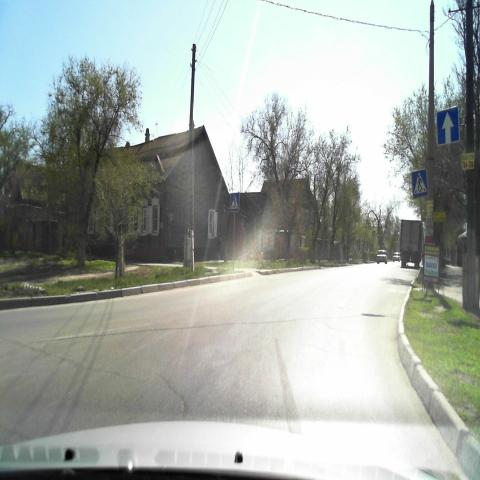5_19_1: (410, 168, 428, 197), (230, 192, 240, 212)
5_5: (436, 107, 460, 146)
